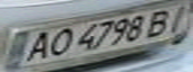4: (75, 20, 100, 53)
7: (93, 18, 118, 50)
8: (124, 11, 154, 43)
9: (109, 16, 136, 46)
A: (18, 28, 57, 63)
B: (139, 6, 181, 38)
I: (157, 2, 193, 34)
O: (39, 26, 78, 59)
